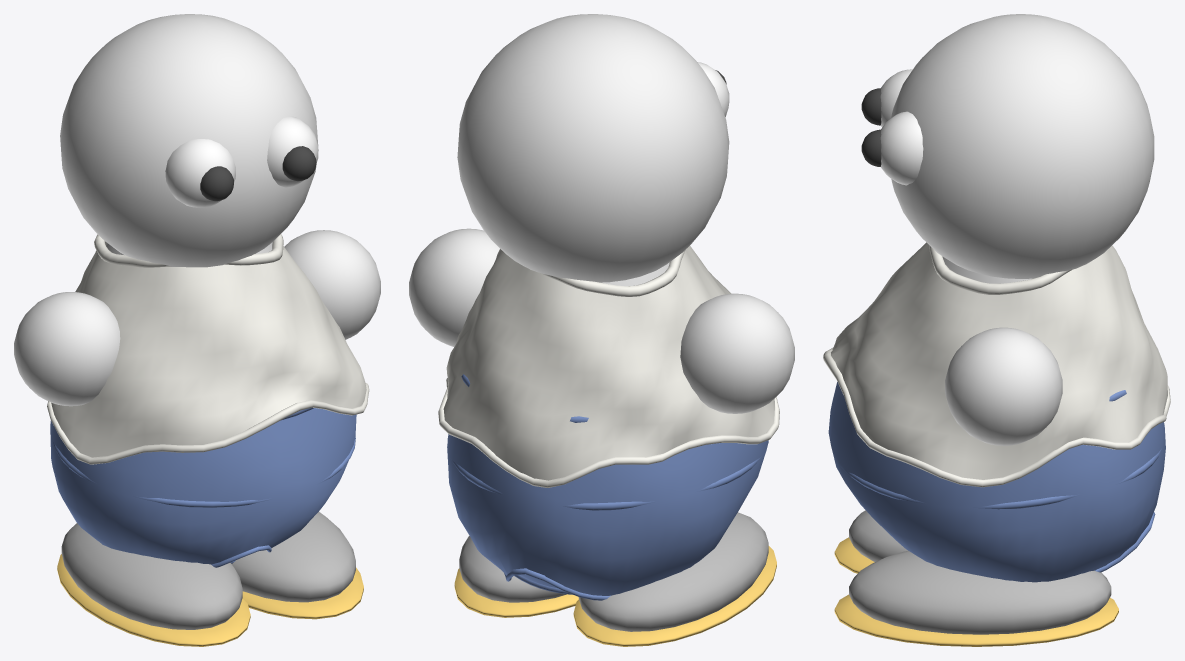
The model's file is blob_pear_pop.glb.
3 views of the same model, side by side, from view 1: azimuth 30°, elevation 25°; view 2: azimuth 150°, elevation 25°; view 3: azimuth 270°, elevation 25° (orthographic). The views are drawn at different scales.
Parts seen in each view (by area): view 1: Head, Singlet, Shorts_boardies, FootL, HandR, FootR, HandL, ThongL, EyeL, SingletHem, ThongR, EyeR (+4 smaller); view 2: Head, Singlet, Shorts_boardies, HandR, FootL, HandL, ThongL, SingletHem, FootR, ThongR, SingletNeck, Shorts_budgies_band (+2 smaller); view 3: Head, Singlet, Shorts_boardies, FootR, HandL, ThongR, SingletHem, EyeR, SingletNeck, FootL, Shorts_budgies_band, EyeL (+4 smaller).
Boxes of the visible parts, x1,y1,x2,y2 form: Head: (60, 14, 318, 267); Singlet: (51, 241, 366, 457); Shorts_boardies: (50, 408, 356, 564); FootL: (61, 523, 242, 629); HandR: (14, 292, 120, 406); FootR: (232, 512, 355, 602); HandL: (284, 230, 380, 339); ThongL: (57, 554, 250, 646); EyeL: (165, 139, 235, 207); SingletHem: (47, 383, 369, 464); ThongR: (242, 567, 363, 619); EyeR: (267, 116, 318, 187); Head: (457, 14, 729, 282); Singlet: (443, 246, 774, 480); Shorts_boardies: (447, 434, 768, 595); HandR: (680, 293, 794, 413); FootL: (578, 512, 768, 631); HandL: (409, 228, 499, 346); ThongL: (573, 546, 776, 646); SingletHem: (438, 378, 779, 487); FootR: (459, 536, 566, 602); ThongR: (454, 568, 578, 617); SingletNeck: (538, 250, 685, 296); Shorts_budgies_band: (447, 436, 762, 510); Head: (891, 14, 1154, 278); Singlet: (831, 242, 1167, 479); Shorts_boardies: (828, 382, 1165, 582); FootR: (849, 550, 1111, 634); HandL: (945, 327, 1062, 445); ThongR: (834, 594, 1118, 646); SingletHem: (823, 347, 1170, 487); EyeR: (880, 111, 923, 185); SingletNeck: (929, 245, 1072, 294); FootL: (849, 510, 907, 561); Shorts_budgies_band: (840, 448, 1162, 509); EyeL: (880, 69, 912, 127).
Size of the model in its own units: 1.24 by 1.86 by 1.03.
